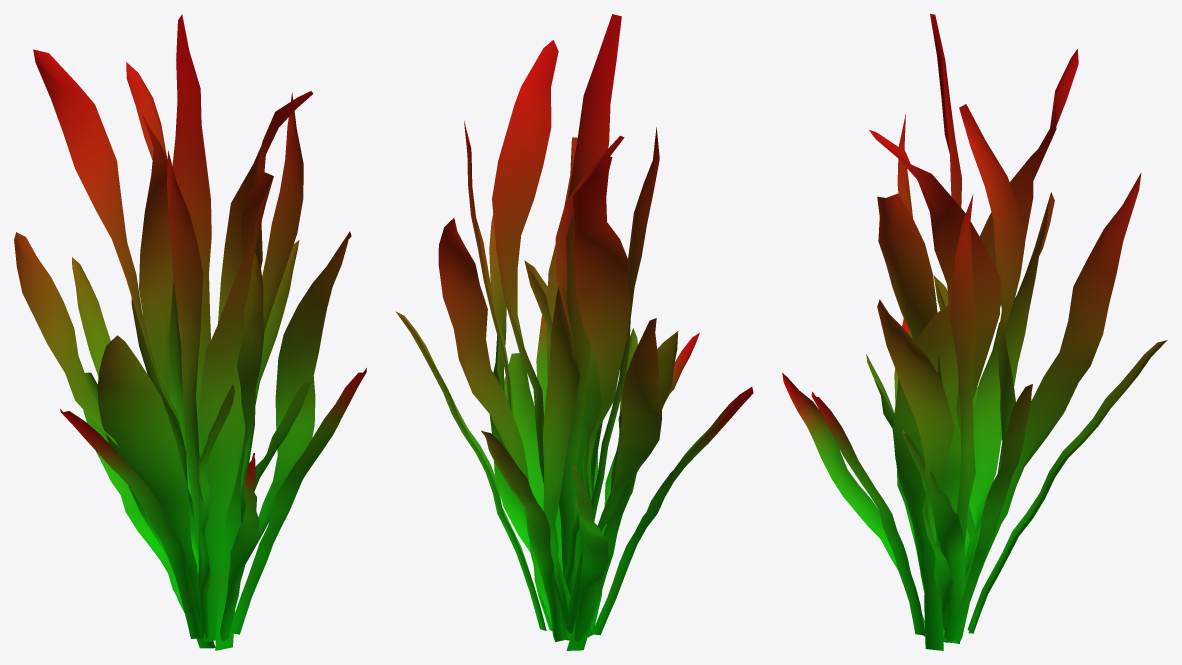
The model's file is Snake Plant_LOD0_Var8_sgtmY.fbx.
3 renders of one model, left to right at view 1: azimuth 30°, elevation 25°; view 2: azimuth 150°, elevation 25°; view 3: azimuth 270°, elevation 25°, orthographic. The views are drawn at different scales.
Parts seen in each view (by area): view 1: _2fdc_Var8_LOD0; view 2: _2fdc_Var8_LOD0; view 3: _2fdc_Var8_LOD0.
Boxes of the visible parts, left/top/right/bottom form: _2fdc_Var8_LOD0: left=14, top=14, right=366, bottom=650; _2fdc_Var8_LOD0: left=395, top=14, right=753, bottom=650; _2fdc_Var8_LOD0: left=782, top=14, right=1167, bottom=650.
Size of the model in its own units: 56.91 by 117 by 66.21.
